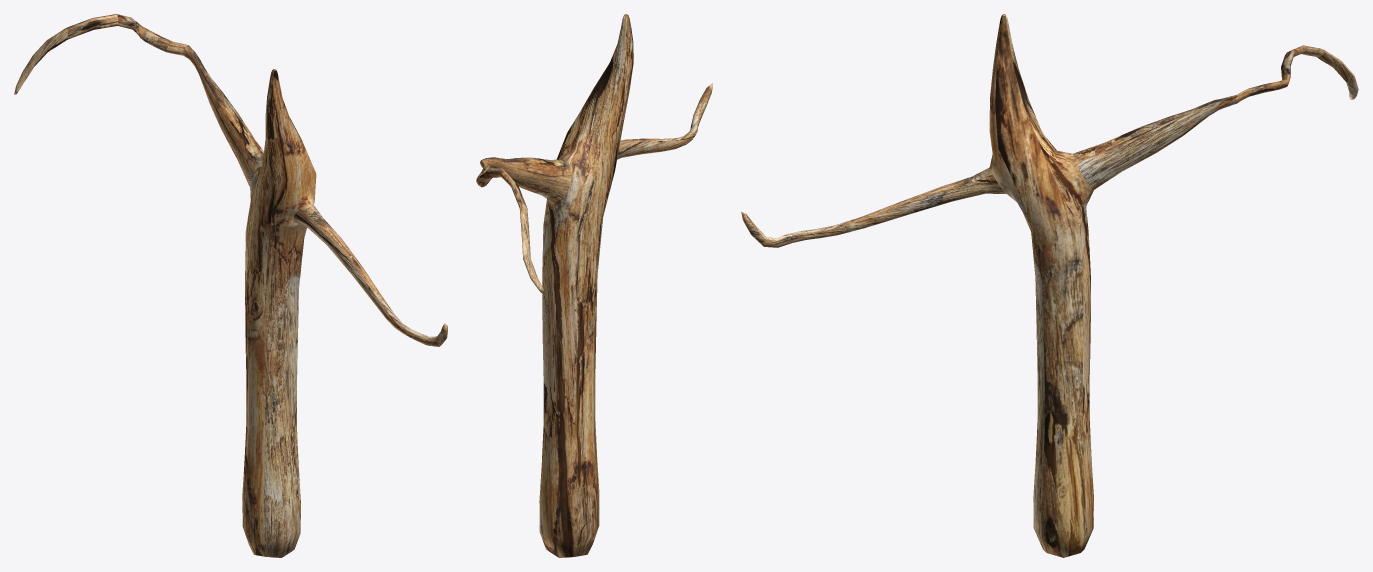
The model's file is Tree.fbx.
3 renders of one model, left to right at view 1: azimuth 30°, elevation 25°; view 2: azimuth 150°, elevation 25°; view 3: azimuth 270°, elevation 25°, orthographic. The views are drawn at different scales.
Visible parts, largest first — view 1: Tree; view 2: Tree; view 3: Tree.
Boxes of the visible parts, x1,y1,x2,y2 form: Tree: (14,14,447,557); Tree: (476,14,712,557); Tree: (741,14,1358,557).
Size of the model in its own units: 492 by 1701 by 1799.
